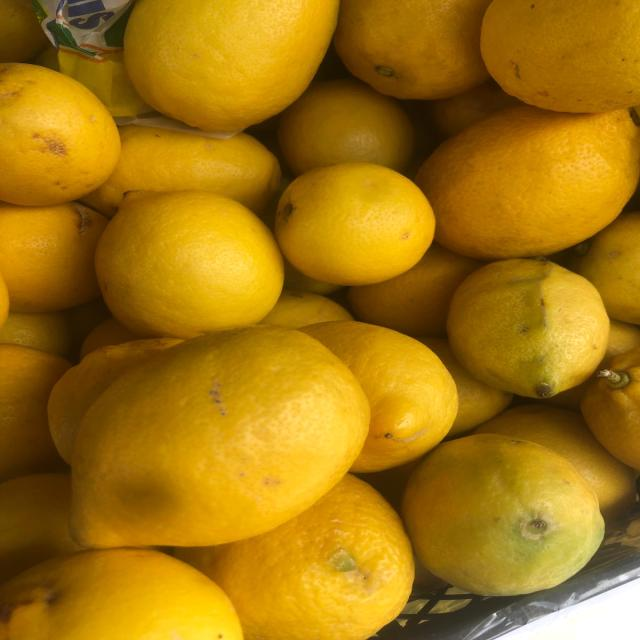lemon: (52, 320, 400, 556), (73, 178, 310, 352), (389, 431, 627, 601), (444, 243, 624, 407), (268, 154, 453, 292)
